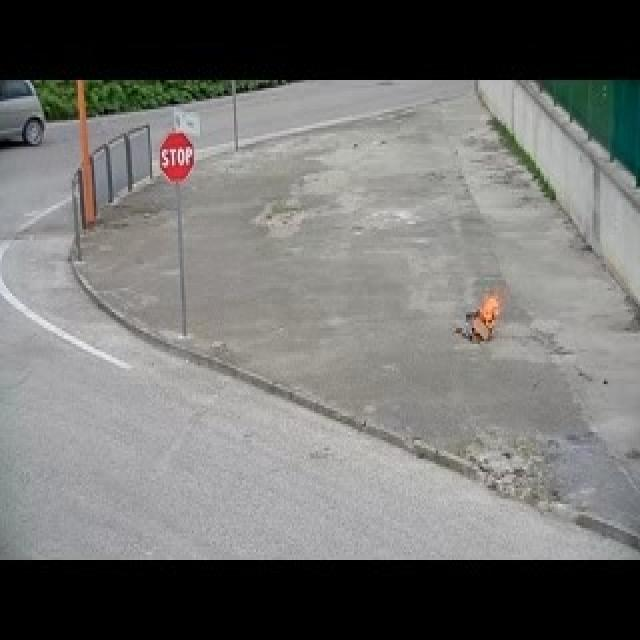fire: (482, 289, 499, 331)
